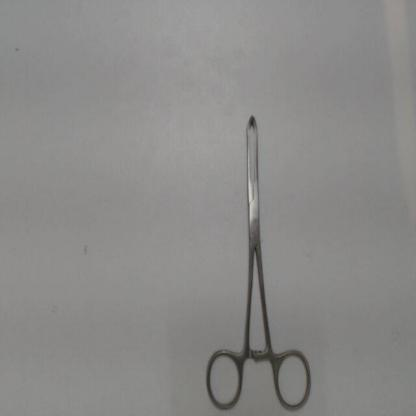Allis Tissue Forceps: (200, 106, 315, 413)
